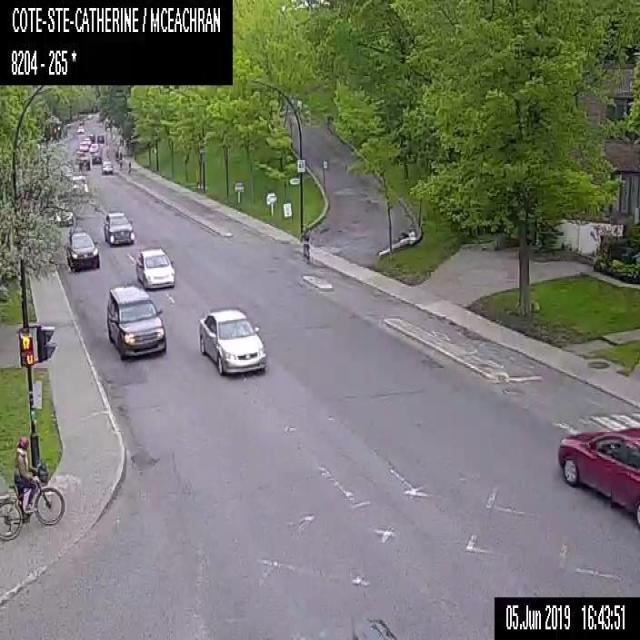cyclist: (0, 436, 64, 540), (298, 224, 310, 264), (118, 150, 123, 170), (114, 147, 119, 166), (127, 158, 132, 174)
vehicle: (556, 424, 639, 529), (198, 306, 268, 374), (106, 284, 166, 359), (136, 246, 174, 290), (65, 231, 98, 269), (102, 209, 134, 244), (56, 202, 72, 224), (72, 173, 88, 192), (78, 153, 90, 170), (101, 160, 112, 173), (74, 150, 84, 164), (92, 151, 101, 163), (79, 140, 88, 150), (89, 142, 99, 151), (96, 132, 104, 143), (87, 132, 95, 141), (83, 136, 90, 144), (77, 125, 84, 132), (78, 118, 84, 124)
